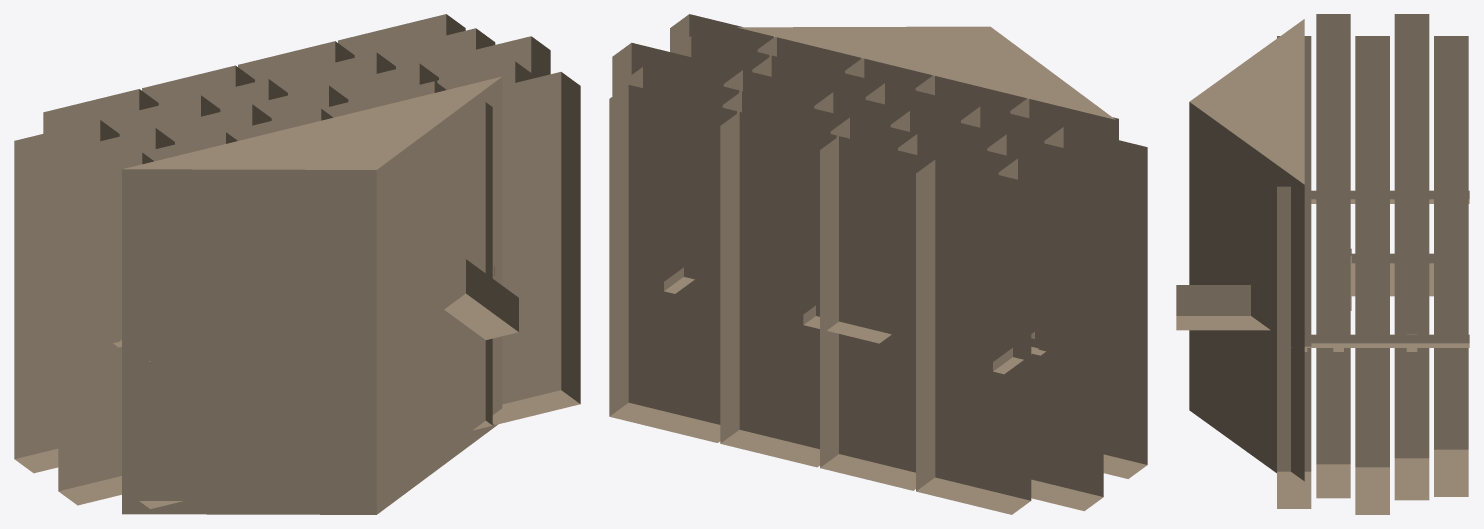
File: town_house_B.glb
3 renders of one model, left to right at view 1: azimuth 30°, elevation 25°; view 2: azimuth 150°, elevation 25°; view 3: azimuth 270°, elevation 25°, orthographic. The views are drawn at different scales.
Parts seen in each view (by area): view 1: world; view 2: world; view 3: world.
Part boxes in pixels (x1=…): world: x1=14, y1=14, x2=580, y2=514; world: x1=609, y1=14, x2=1147, y2=514; world: x1=1176, y1=14, x2=1469, y2=514.
Size of the model in its own units: 9.76 by 6.5 by 5.6.
